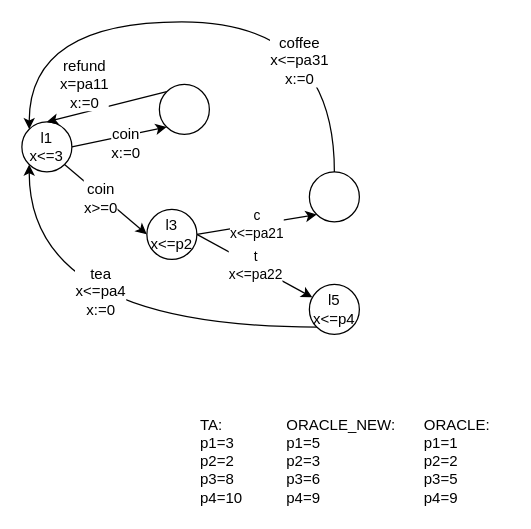
The diagram is 531 pixels wide and 529 high, and some of its shapes have lost their labels. Here are the shapes that lost their labels. From the top down, the centre of each, then its label:
[183,108]: l2 x<=p1
[333,196]: l4 x<=p3
